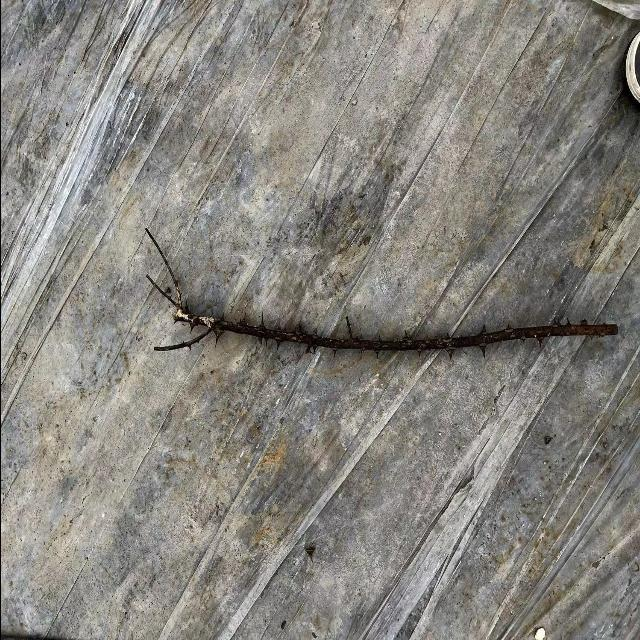branch: (193, 319, 617, 353)
